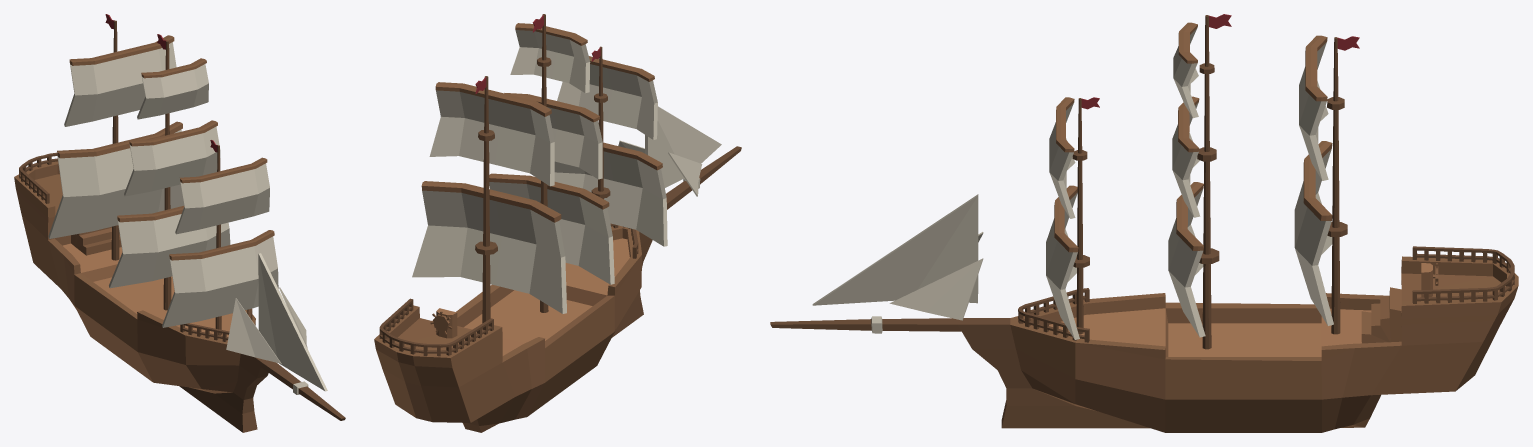
Rendered from sailship.glb.
3 renders of one model, left to right at view 1: azimuth 30°, elevation 25°; view 2: azimuth 150°, elevation 25°; view 3: azimuth 270°, elevation 25°, orthographic. The views are drawn at different scales.
Visible parts, largest first — view 1: BackSail; view 2: BackSail; view 3: BackSail.
Boxes of the visible parts, x1,y1,x2,y2 form: BackSail: (14,14,345,432); BackSail: (374,14,741,432); BackSail: (770,14,1518,432).
Size of the model in its own units: 1.7 by 3.85 by 6.38.
